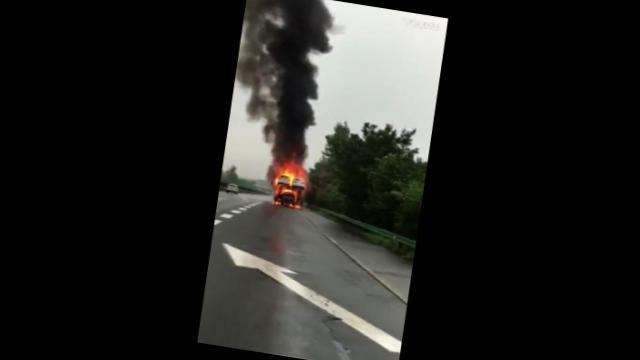fire: (280, 164, 297, 182), (281, 186, 293, 193)
